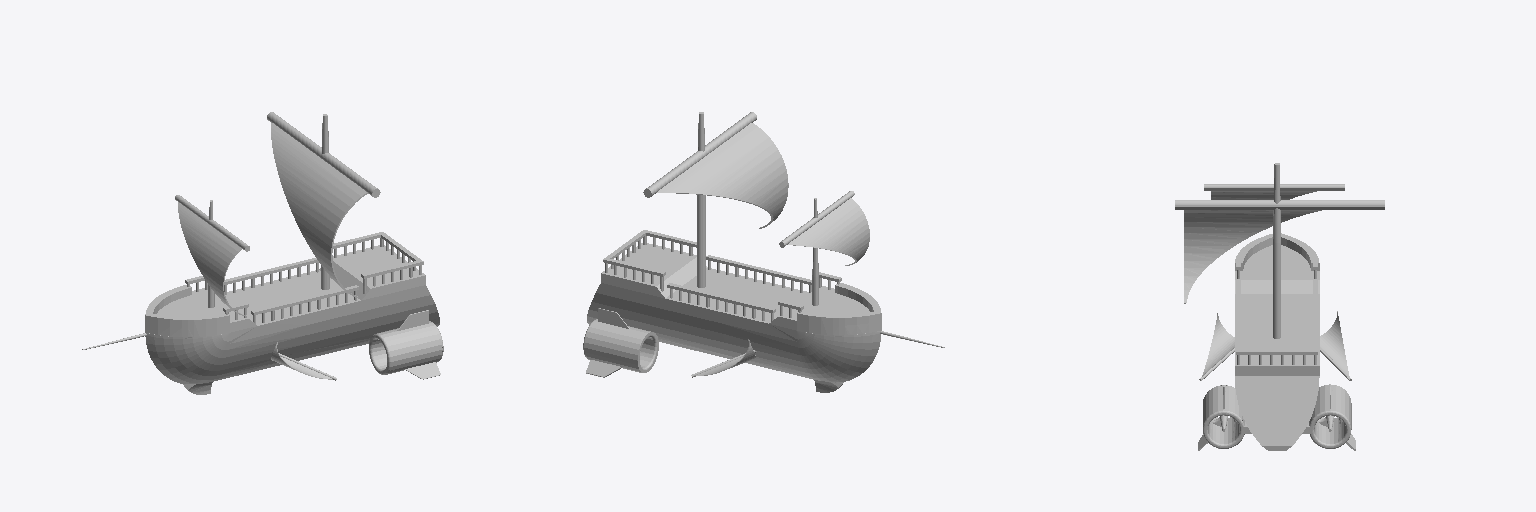
The model's file is ship_assem_v2.obj.
The picture shows the model from 3 angles: view 1: azimuth 30°, elevation 25°; view 2: azimuth 150°, elevation 25°; view 3: azimuth 270°, elevation 25°; orthographic projection.
Bounding box in the file's own units: 95 × 64.97 × 49.5.